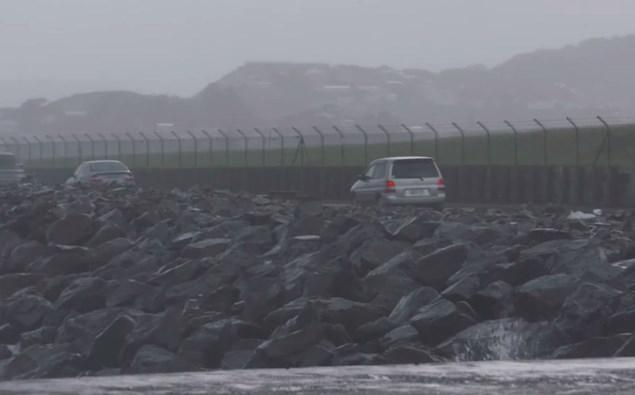car: (348, 155, 447, 210), (61, 159, 137, 200), (1, 150, 27, 191)
